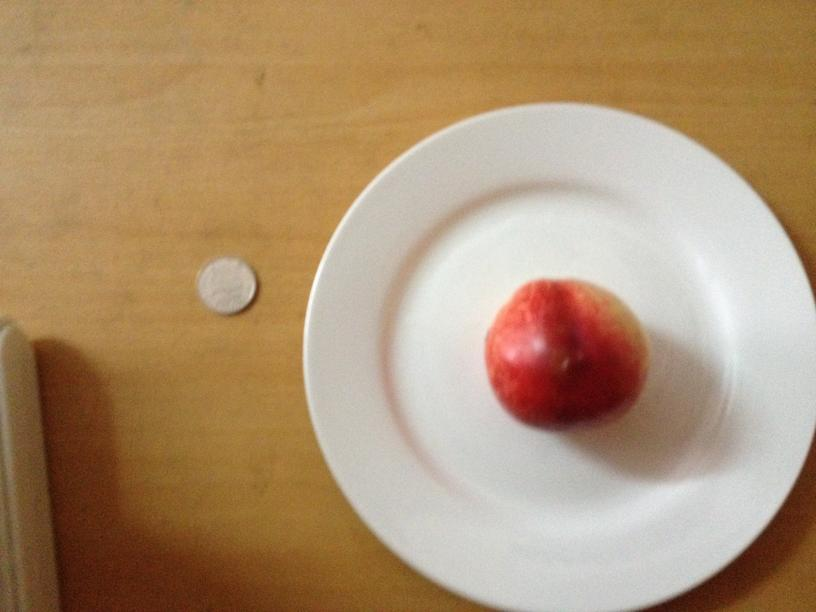coin: (195, 254, 259, 315)
peach: (480, 280, 645, 434)
